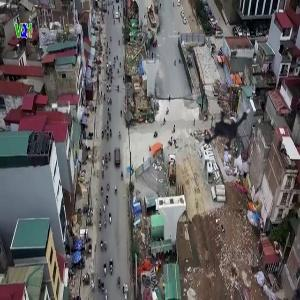drone: (193, 102, 265, 174)
